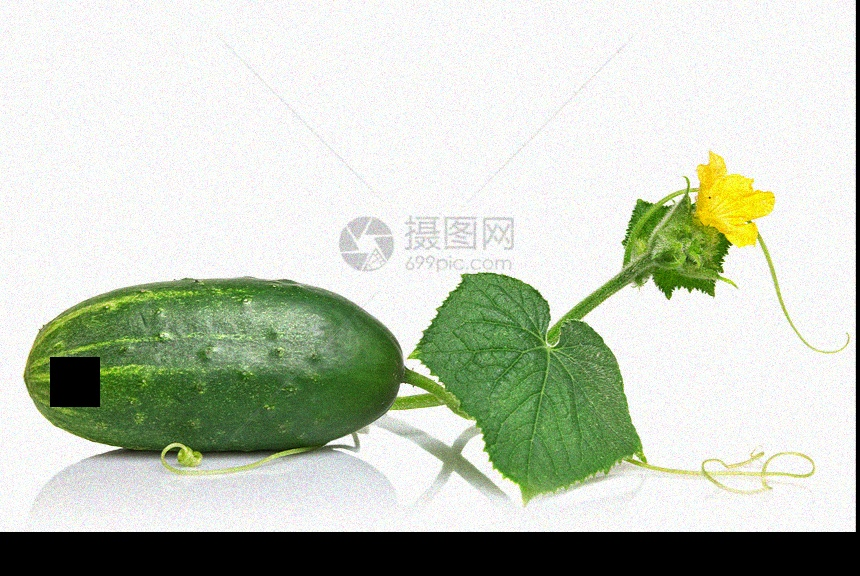cucumber: (22, 281, 406, 453)
cucumber_plant: (410, 131, 787, 492)
